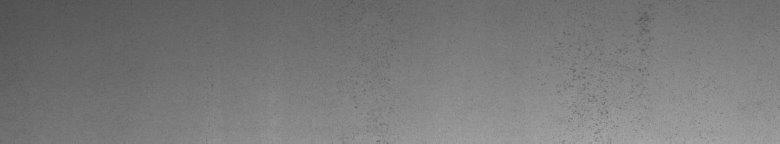ib: (568, 12, 654, 119)
